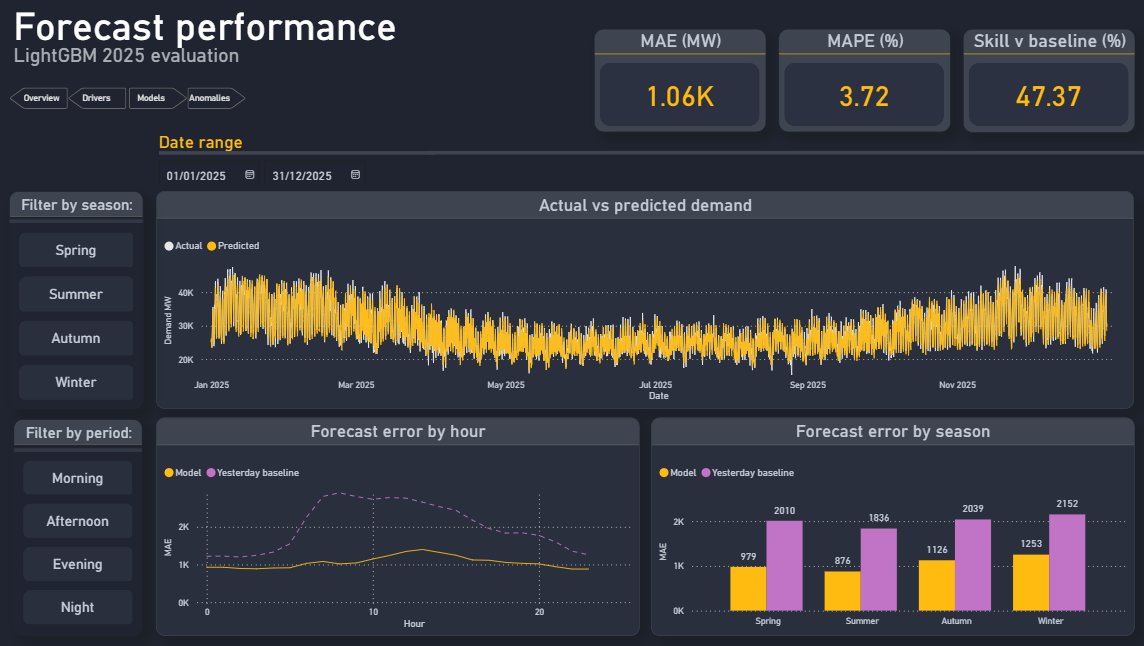

This screenshot's page, from the dashboard's own definition file:
{"tool":"powerbi","page":{"name":"Forecast performance","canvas":[1280,720],"ordinal":2},"visuals":[{"type":"shape","box":[18.9,441.2,142.6,119.1],"z":0},{"type":"shape","box":[13.5,183.1,148.6,127],"z":1000},{"type":"shape","box":[481.9,109.7,798,121.6],"z":2000},{"type":"lineChart","title":"Actual vs predicted demand","fields":{"Category":["fct_demand.datetime"],"Y":["Avg(fct_demand.actual_mw)","Avg(fct_demand.predicted_mw)"]},"box":[176.7,213.3,1086.7,241.7],"z":3000},{"type":"advancedSlicerVisual","title":"Filter by season:","fields":{"Values":["dim_calendar.season"]},"box":[12.8,212.8,149.3,242.6],"z":4000},{"type":"advancedSlicerVisual","title":"Filter by period:","fields":{"Values":["dim_time.period_of_day"]},"box":[18.2,466.2,143.6,241.5],"z":5000},{"type":"group","id":"g1","title":"Group 4","box":[1072.7,33.3,191.3,115.2],"z":6000,"group":"g6"},{"type":"group","id":"g2","title":"Group 2","box":[662.9,33.6,191.4,114.7],"z":6000},{"type":"group","id":"g3","title":"Group 4","box":[662.9,33.6,191.5,114.9],"z":6000,"group":"g2"},{"type":"group","id":"g4","title":"Group 4","box":[868.1,33.6,191.5,114.9],"z":6000,"group":"g5"},{"type":"group","id":"g5","title":"Group 2","box":[868.1,33.6,191.4,114.7],"z":7000},{"type":"cardVisual","title":"Skill v baseline (%)","fields":{"Data":["_Measures.Skill vs Baseline %"]},"box":[1072.7,33.3,191.3,115.2],"z":8000,"group":"g1"},{"type":"group","id":"g6","title":"Group 2","box":[1072.7,33.3,190.9,115.2],"z":8000},{"type":"cardVisual","title":"MAE (MW)","fields":{"Data":["_Measures.MAE"]},"box":[662.9,33.6,191.5,114.9],"z":8000,"group":"g3"},{"type":"cardVisual","title":"MAPE (%)","fields":{"Data":["_Measures.MAPE_%"]},"box":[868.1,33.6,191.5,114.9],"z":8000,"group":"g4"},{"type":"textbox","box":[13,0,447.2,67.9],"z":9000},{"type":"textbox","box":[13.3,45,435.8,47.2],"z":10000},{"type":"slicer","fields":{"Values":["dim_calendar.date"]},"box":[167.2,141.4,332.9,65.6],"z":11000},{"type":"lineChart","title":"Forecast error by hour","fields":{"Category":["dim_time.hour"],"Y":["_Measures.MAE","_Measures.Baseline MAE"]},"box":[176.9,465.7,537,242.6],"z":12000},{"type":"clusteredColumnChart","title":"Forecast error by season","fields":{"Category":["dim_calendar.season"],"Y":["_Measures.MAE","_Measures.Baseline MAE"]},"box":[726.9,465.6,537.3,242.9],"z":13000},{"type":"actionButton","box":[13.3,98.3,65.2,23.8],"z":14000},{"type":"actionButton","box":[78.3,98.3,65.2,23.8],"z":15000},{"type":"actionButton","box":[146.8,98.4,65.2,23.8],"z":16000},{"type":"actionButton","box":[212,98.4,65.2,23.8],"z":17000}]}

Visuals, with their boxes in screenshot pixels (x1, y1, x2, y2), scaled from the page's 1280x720 canvas onto the 1144x646 screenshot:
shape: {"x1": 17, "y1": 396, "x2": 144, "y2": 503}
shape: {"x1": 12, "y1": 164, "x2": 145, "y2": 278}
shape: {"x1": 431, "y1": 98, "x2": 1143, "y2": 208}
"Actual vs predicted demand" lineChart: {"x1": 158, "y1": 191, "x2": 1129, "y2": 408}
"Filter by season:" advancedSlicerVisual: {"x1": 11, "y1": 191, "x2": 145, "y2": 409}
"Filter by period:" advancedSlicerVisual: {"x1": 16, "y1": 418, "x2": 145, "y2": 635}
"Group 4" group: {"x1": 959, "y1": 30, "x2": 1130, "y2": 133}
"Group 2" group: {"x1": 592, "y1": 30, "x2": 764, "y2": 133}
"Group 4" group: {"x1": 592, "y1": 30, "x2": 764, "y2": 133}
"Group 4" group: {"x1": 776, "y1": 30, "x2": 947, "y2": 133}
"Group 2" group: {"x1": 776, "y1": 30, "x2": 947, "y2": 133}
"Skill v baseline (%)" cardVisual: {"x1": 959, "y1": 30, "x2": 1130, "y2": 133}
"Group 2" group: {"x1": 959, "y1": 30, "x2": 1129, "y2": 133}
"MAE (MW)" cardVisual: {"x1": 592, "y1": 30, "x2": 764, "y2": 133}
"MAPE (%)" cardVisual: {"x1": 776, "y1": 30, "x2": 947, "y2": 133}
textbox: {"x1": 12, "y1": 0, "x2": 411, "y2": 61}
textbox: {"x1": 12, "y1": 40, "x2": 401, "y2": 83}
slicer - dim_calendar.date: {"x1": 149, "y1": 127, "x2": 447, "y2": 186}
"Forecast error by hour" lineChart: {"x1": 158, "y1": 418, "x2": 638, "y2": 636}
"Forecast error by season" clusteredColumnChart: {"x1": 650, "y1": 418, "x2": 1130, "y2": 636}
actionButton: {"x1": 12, "y1": 88, "x2": 70, "y2": 110}
actionButton: {"x1": 70, "y1": 88, "x2": 128, "y2": 110}
actionButton: {"x1": 131, "y1": 88, "x2": 189, "y2": 110}
actionButton: {"x1": 189, "y1": 88, "x2": 248, "y2": 110}
